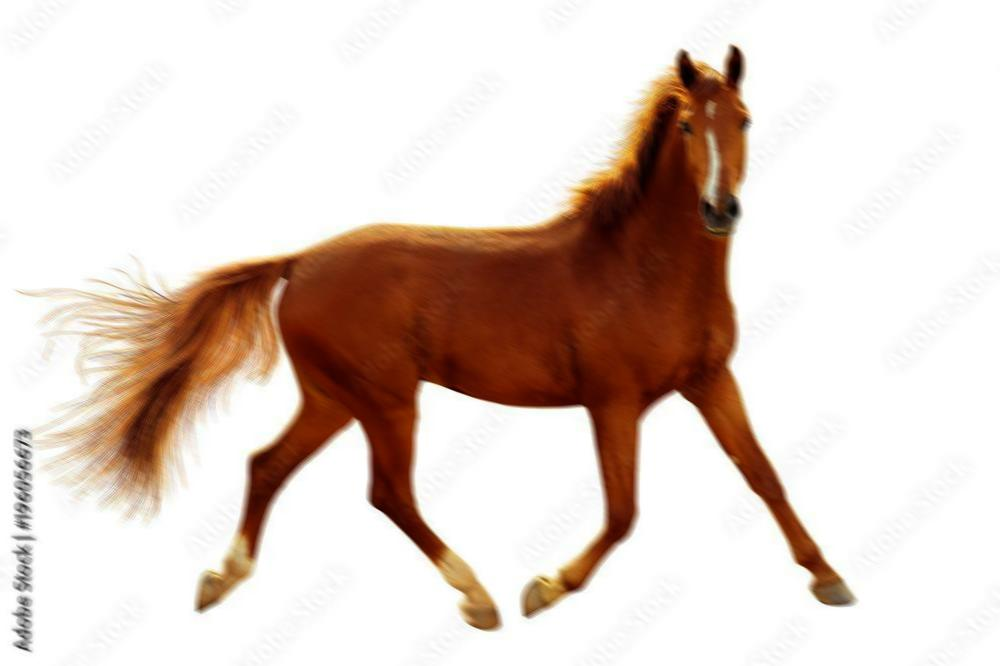horse: (32, 35, 869, 634)
